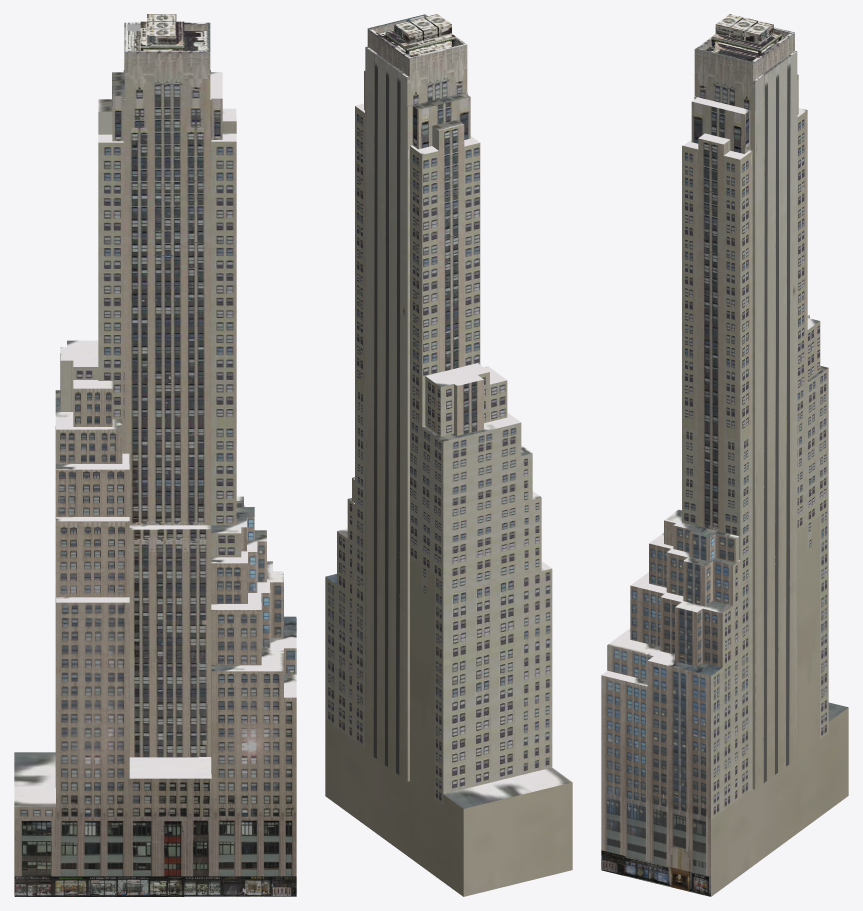
The model's file is fifth500.glb.
The picture shows the model from 3 angles, left to right: view 1: azimuth 30°, elevation 25°; view 2: azimuth 150°, elevation 25°; view 3: azimuth 270°, elevation 25°; orthographic projection. The views are drawn at different scales.
Visible parts, largest first — view 1: Body; view 2: Body; view 3: Body.
Boxes of the visible parts, bbox=[...] form: Body: bbox=[14, 14, 296, 896]; Body: bbox=[325, 14, 572, 896]; Body: bbox=[601, 14, 848, 896].
Size of the model in its own units: 71.28 by 212 by 58.26.
53 materials, 51 textured.
